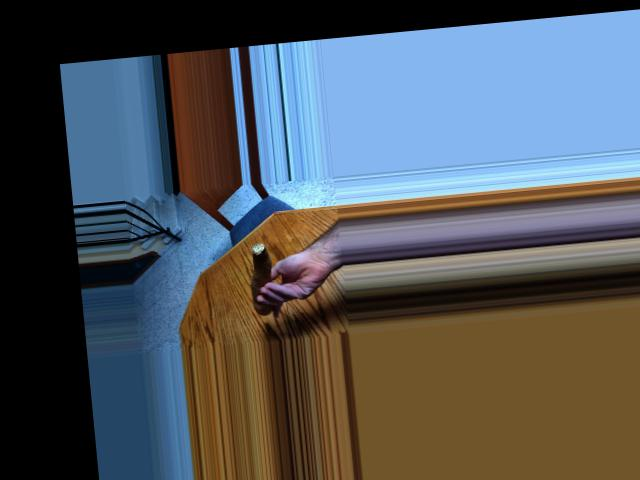sweet_potato: (241, 250, 273, 311)
